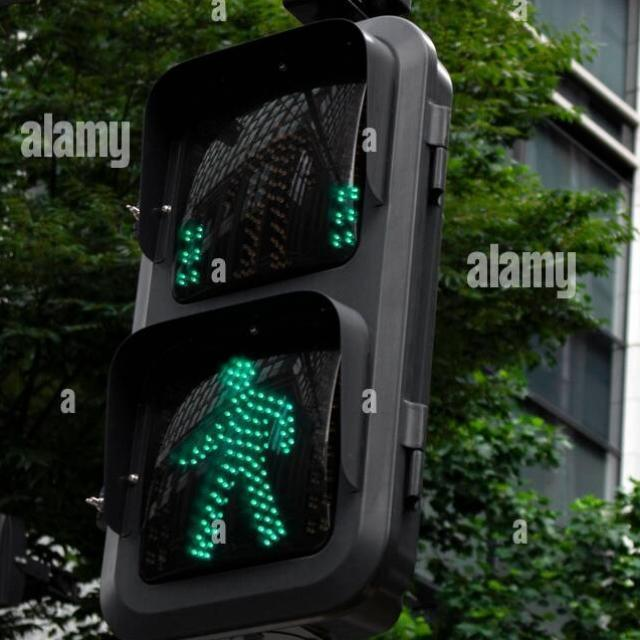geen-crossing: (148, 348, 302, 570)
